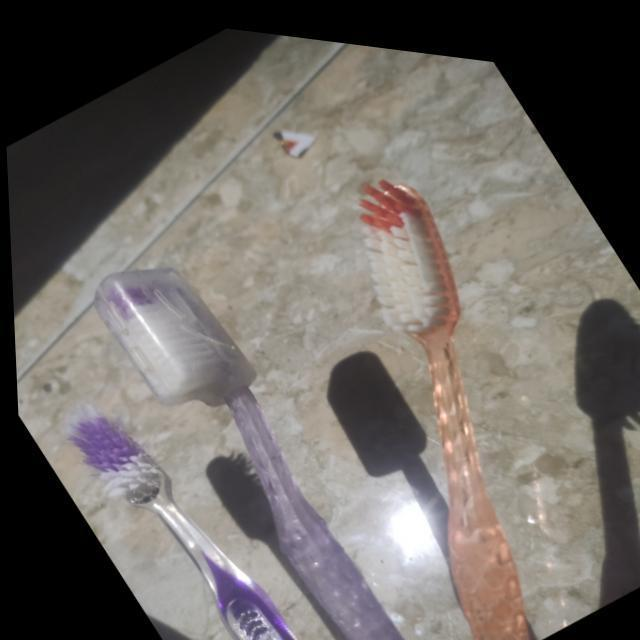toothbrush: (64, 238, 419, 640), (338, 148, 550, 640), (40, 401, 310, 640)
